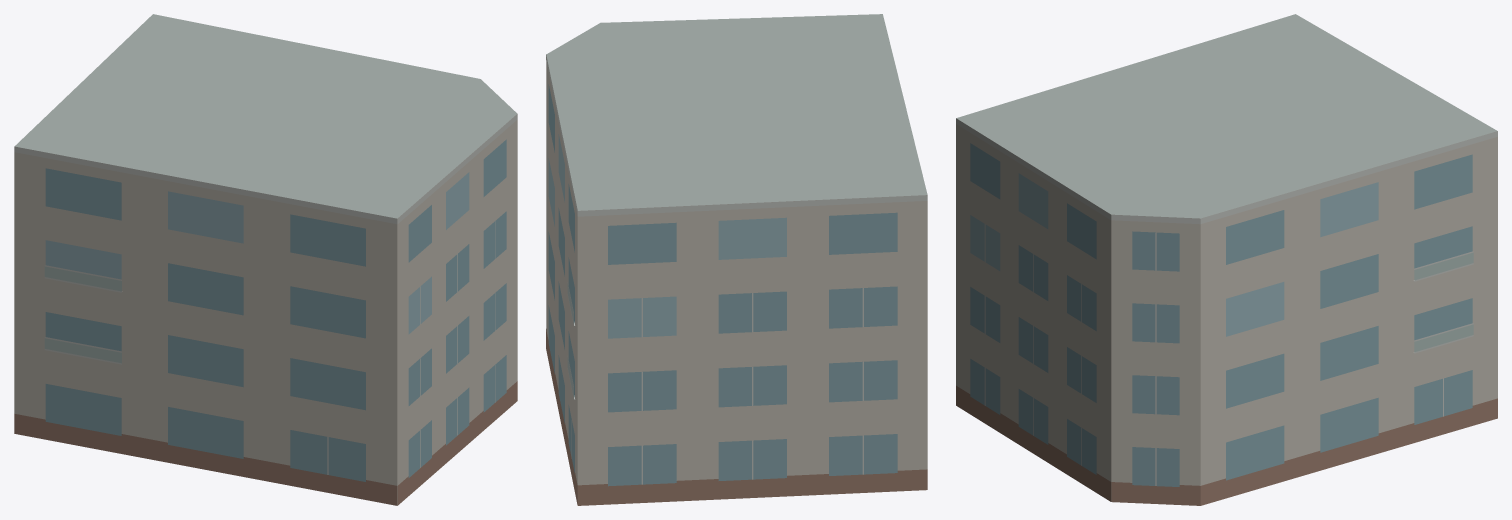
The model's file is survey-upis-32805694.glb.
3 renders of one model, left to right at view 1: azimuth 30°, elevation 25°; view 2: azimuth 150°, elevation 25°; view 3: azimuth 270°, elevation 25°, orthographic. The views are drawn at different scales.
Parts seen in each view (by area): view 1: survey-upis-32805694.tmp; view 2: survey-upis-32805694.tmp; view 3: survey-upis-32805694.tmp.
Part boxes in pixels (box(x1,y1,x2,y2)): survey-upis-32805694.tmp: box(14, 14, 517, 505); survey-upis-32805694.tmp: box(546, 14, 927, 505); survey-upis-32805694.tmp: box(956, 14, 1497, 505).
Bounding box in the file's own units: 18.78 × 12.3 × 21.02.
